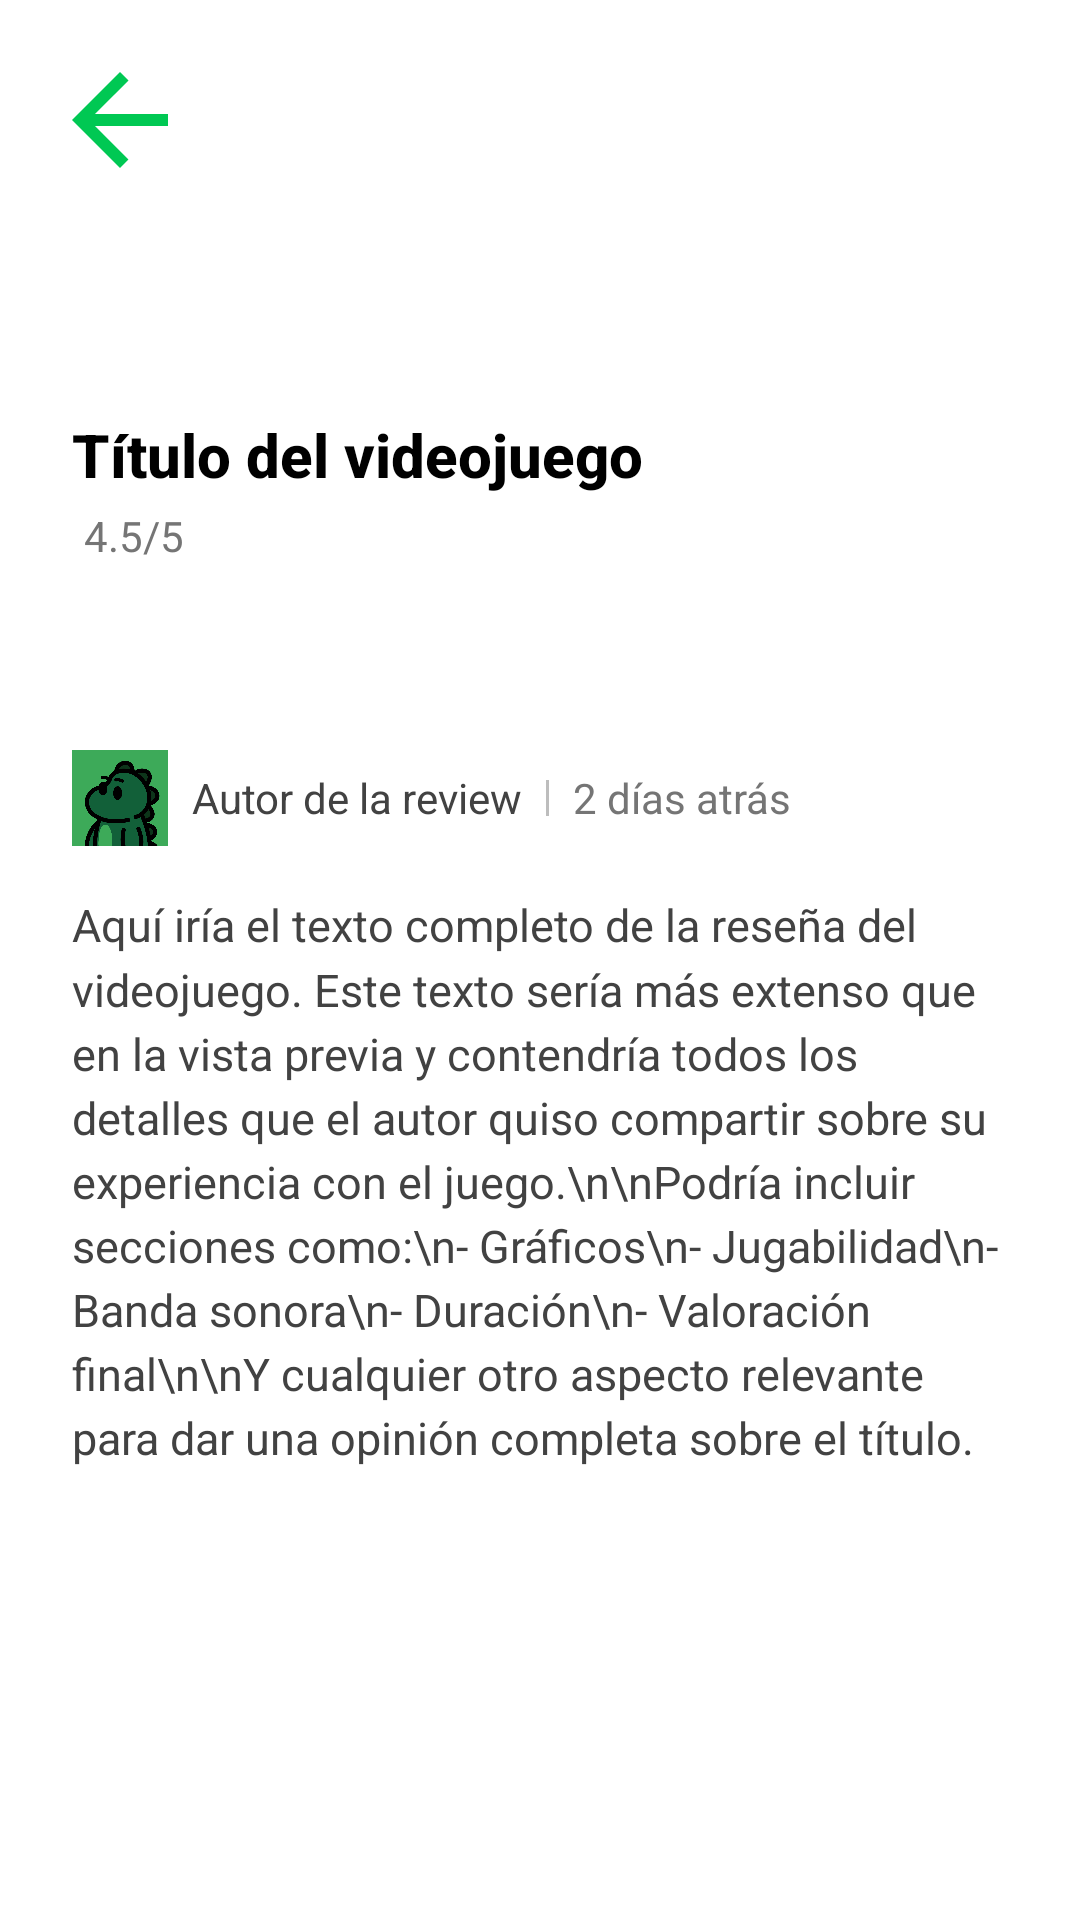

Point at icon controls on the screen. Image size 1080 x 1920, points as [x,y].
Go back: [120,120]
